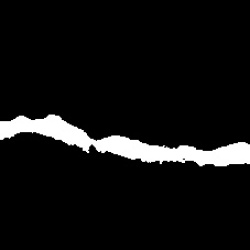crack: (2, 112, 247, 167)
